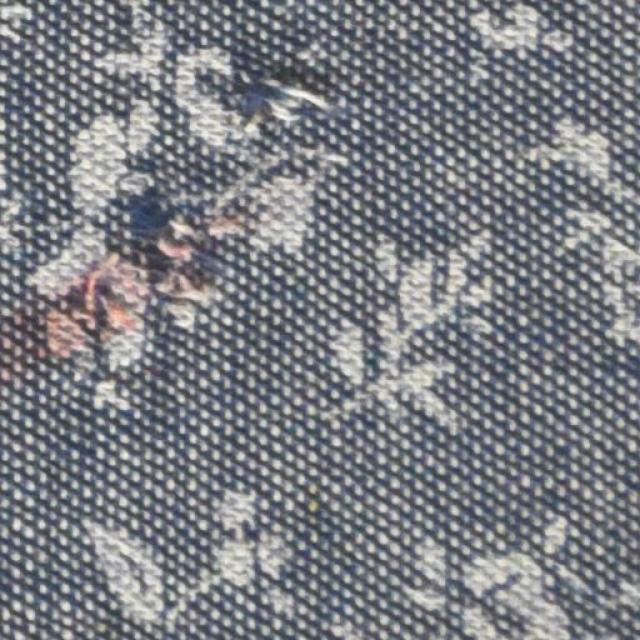Snag: (243, 53, 340, 151), (116, 180, 200, 265)
Stain: (6, 242, 197, 371)
